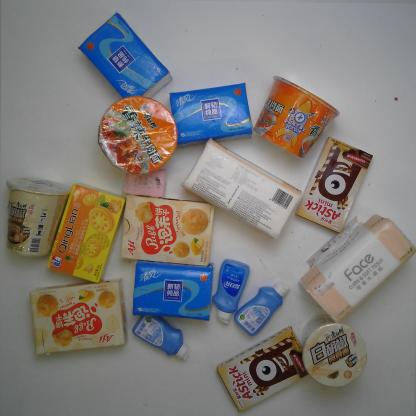Dessert: (46, 182, 127, 284), (216, 324, 308, 413), (28, 276, 128, 357), (294, 135, 374, 235), (121, 194, 215, 267)
Instant Noodles: (254, 74, 340, 160), (97, 96, 179, 176), (5, 177, 71, 258), (301, 314, 368, 388)
Personal Hygiene: (234, 282, 291, 336), (211, 257, 251, 325), (132, 315, 189, 362)
Tissue: (297, 213, 416, 324), (180, 138, 303, 240), (77, 10, 173, 98), (169, 82, 254, 148), (131, 260, 215, 322), (122, 168, 168, 199)
